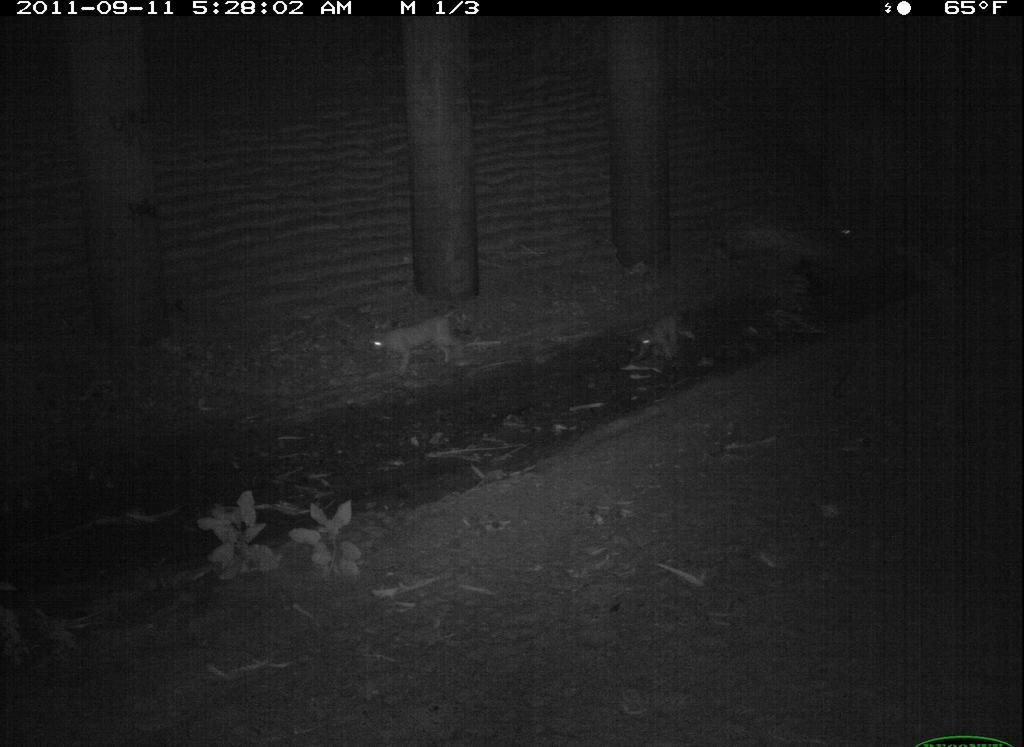bobcat: (727, 595, 945, 747)
